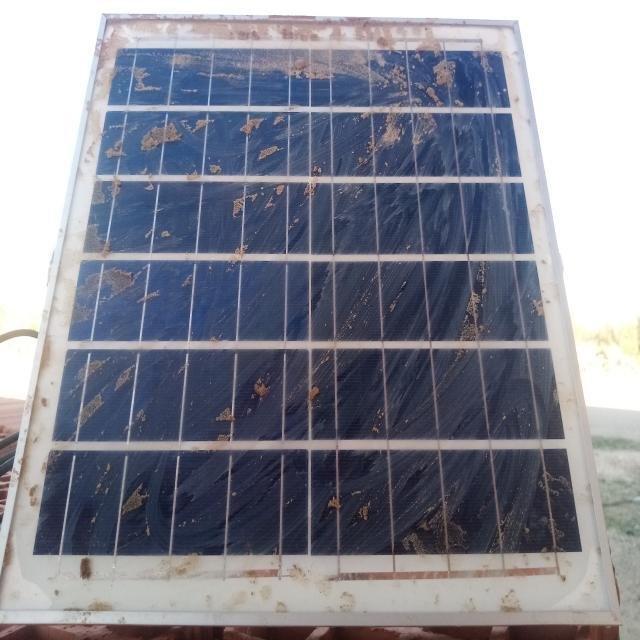faulty: (0, 21, 622, 628)
